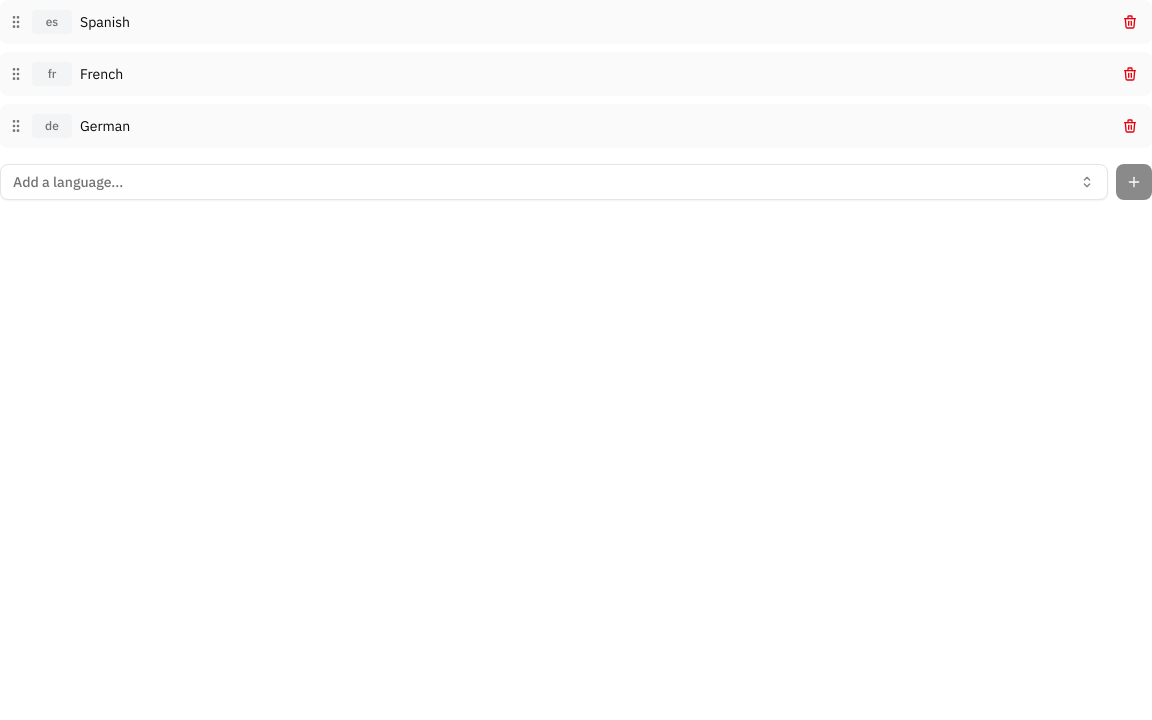
Test: LanguageList › excludes already added languages from autocomplete options
This screenshot has width=1152, height=720.
Click the combobox to open it
Click the dropdown named "select language" at (68, 182), box [0,164,1108,200]
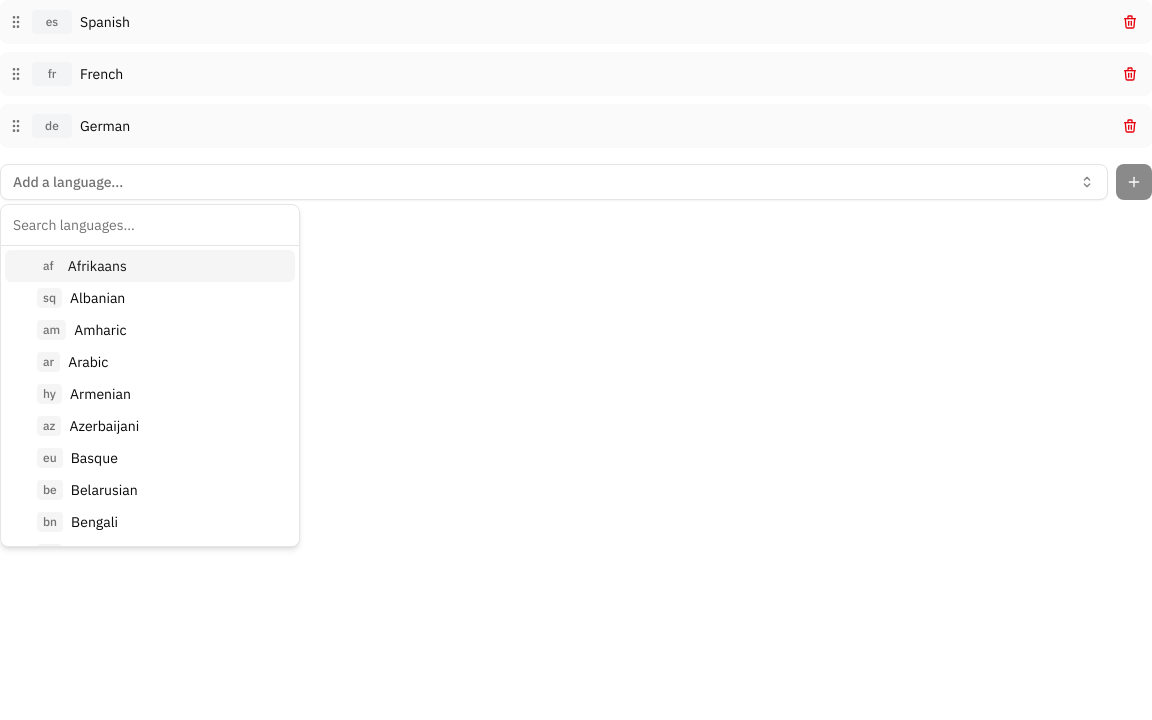
Expected: the dropdown with placeholder "Search languages..." is shown
Search for Spanish (already added)
Type "Spanish" into the dropdown with placeholder "Search languages..." at (150, 225), box [13,205,287,245]
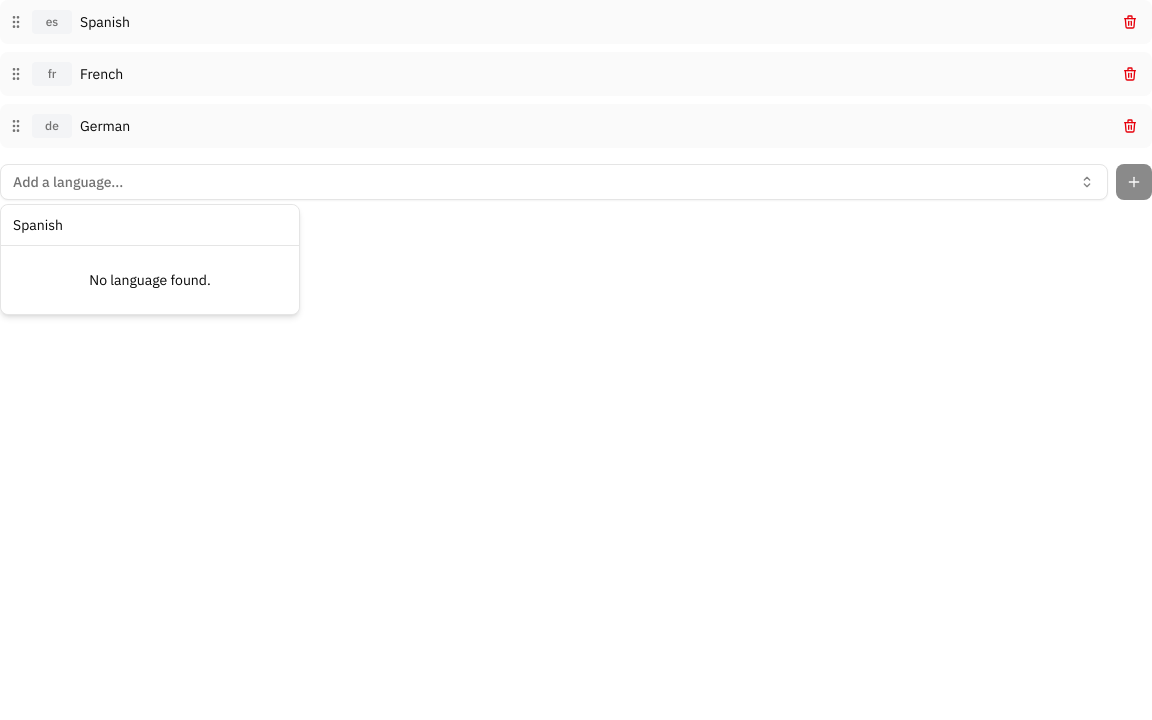
Expected: the text "No language found." is shown, [89,271,211,289]
